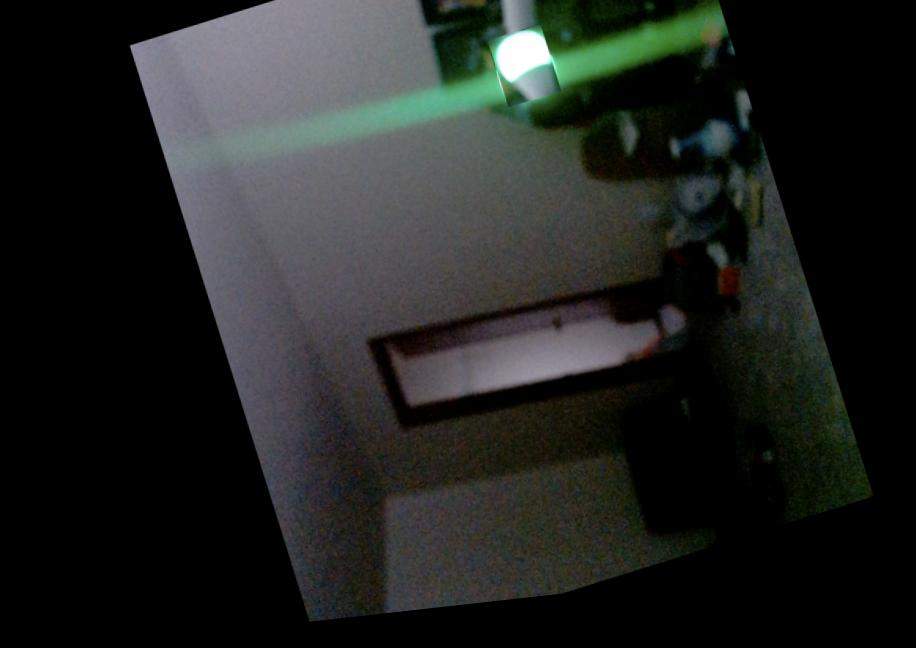TubeLight: (483, 35, 558, 120)
